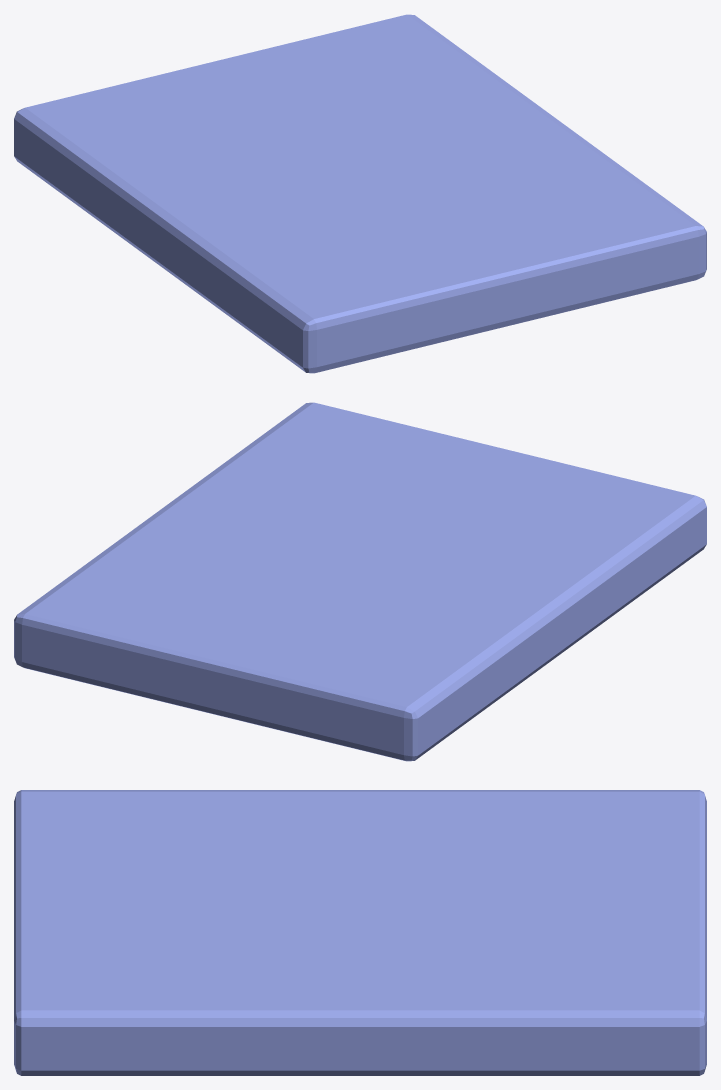
File: tepsi.fbx
3 renders of one model, top to bottom at view 1: azimuth 30°, elevation 25°; view 2: azimuth 150°, elevation 25°; view 3: azimuth 270°, elevation 25°, orthographic. The views are drawn at different scales.
Visible parts, largest first — view 1: Plane; view 2: Plane; view 3: Plane.
Part boxes in pixels (x1,y1,x2,y2): Plane: [14, 14, 706, 373]; Plane: [14, 402, 706, 761]; Plane: [14, 790, 706, 1075].
Bounding box in the file's own units: 65.83 × 8.46 × 83.25.
